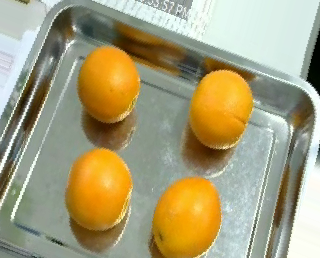Orange: (151, 175, 223, 257), (63, 147, 132, 230), (188, 68, 253, 150), (76, 44, 139, 122)
